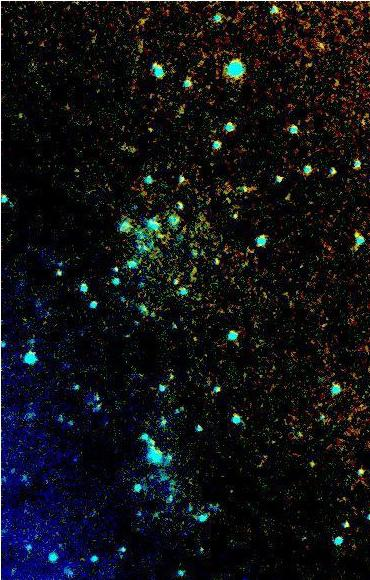star: (285, 0, 315, 30)
